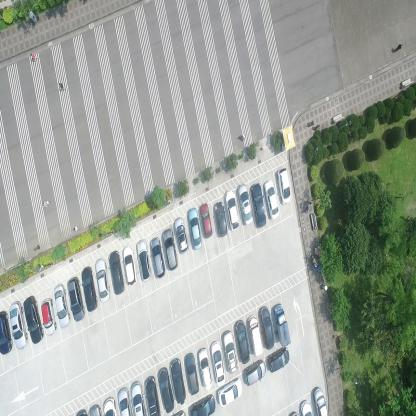car: (9, 300, 29, 351), (23, 296, 44, 344), (66, 277, 85, 322), (274, 303, 292, 349), (169, 357, 186, 405), (218, 377, 243, 409), (108, 249, 125, 296), (53, 284, 71, 328), (81, 266, 98, 312), (210, 338, 226, 386), (250, 181, 266, 228), (158, 366, 174, 413), (263, 177, 280, 221), (236, 182, 253, 226), (259, 305, 275, 350), (222, 329, 238, 374), (136, 238, 152, 282), (234, 319, 250, 363), (95, 257, 110, 303), (150, 236, 166, 279), (187, 206, 202, 250), (248, 314, 263, 358), (198, 345, 213, 389), (184, 351, 199, 395), (244, 357, 266, 387), (41, 297, 57, 337), (144, 375, 160, 415), (163, 228, 178, 270), (225, 188, 239, 232), (122, 246, 137, 287), (276, 167, 292, 205), (268, 346, 290, 373), (0, 309, 13, 353), (189, 393, 215, 415), (198, 202, 213, 239), (130, 381, 146, 415), (174, 216, 188, 253), (214, 200, 227, 238), (117, 386, 133, 415), (313, 386, 328, 415), (102, 396, 116, 415), (299, 398, 313, 416)
